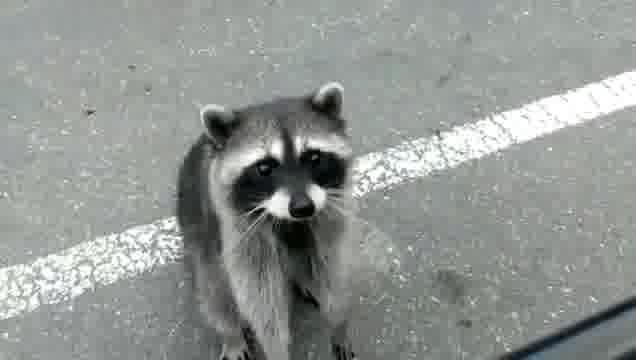raccoon: (174, 80, 357, 360)
